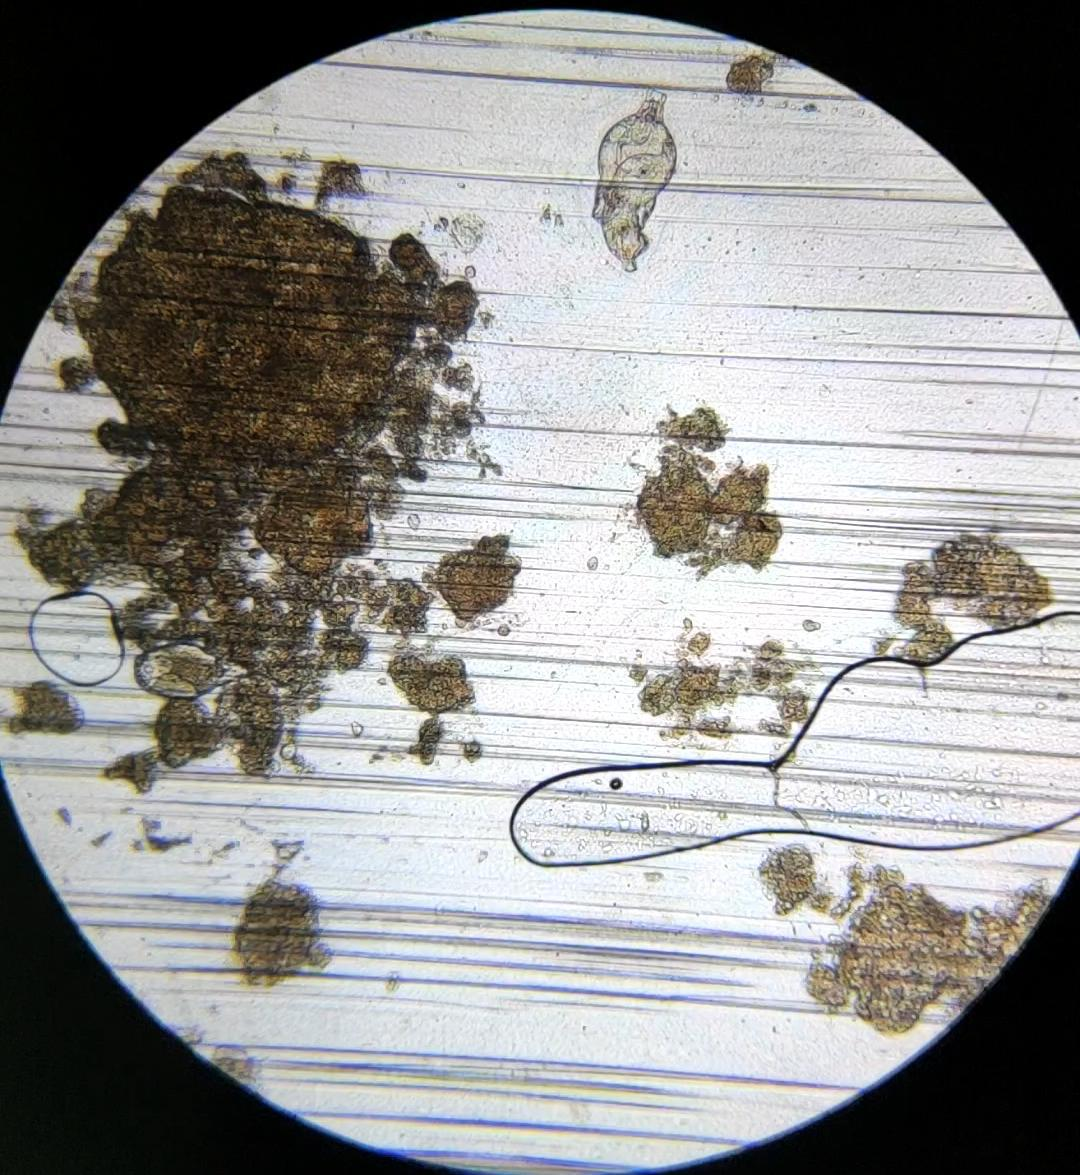Do: (591, 84, 677, 273), (133, 643, 263, 700)
